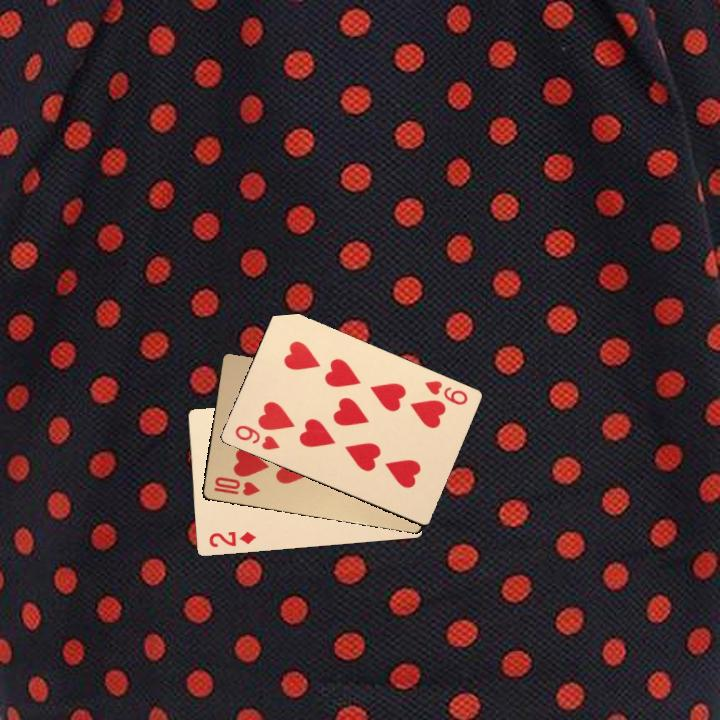10h: (210, 473, 262, 498)
2d: (205, 527, 258, 550)
9h: (231, 421, 282, 453), (420, 376, 470, 408)
